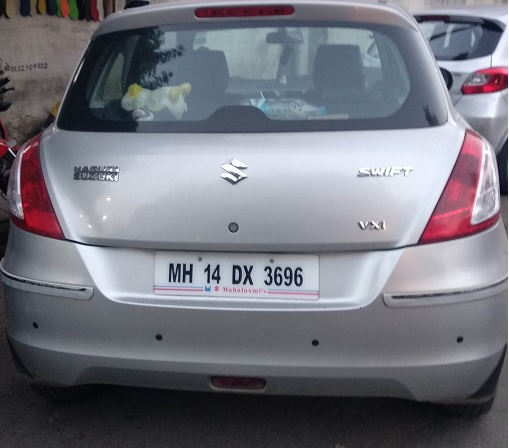licenseplate: (153, 245, 325, 302)
